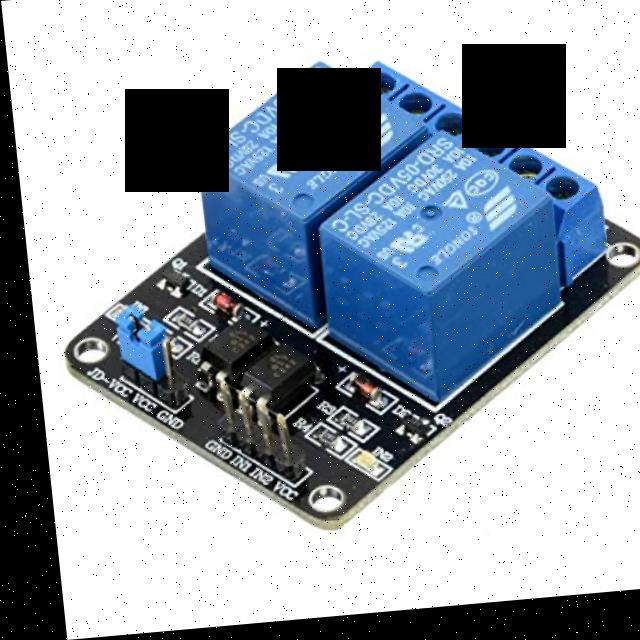4439: (387, 412, 423, 453), (148, 266, 184, 294)
IC: (232, 341, 314, 410), (187, 318, 270, 385)
LED: (342, 450, 371, 482)
connector -5v-: (355, 56, 586, 232), (199, 376, 300, 490), (96, 306, 177, 403)
diode -D1-: (331, 371, 381, 416), (202, 293, 238, 322)
relay: (316, 129, 551, 388), (186, 58, 428, 246)
resistor IR1: (164, 311, 198, 341), (325, 415, 355, 440), (304, 429, 332, 455)
